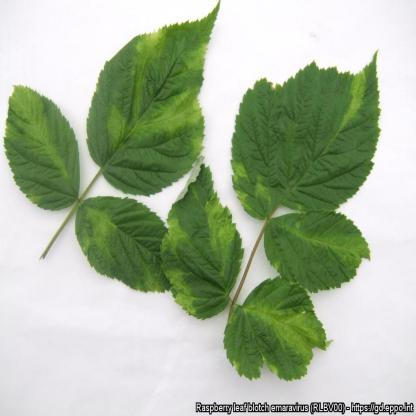Raspberry leaf: (86, 1, 227, 205), (275, 50, 386, 213), (157, 165, 245, 319), (69, 196, 180, 303), (223, 276, 333, 381), (2, 80, 80, 212), (263, 207, 372, 294), (230, 76, 286, 215)
